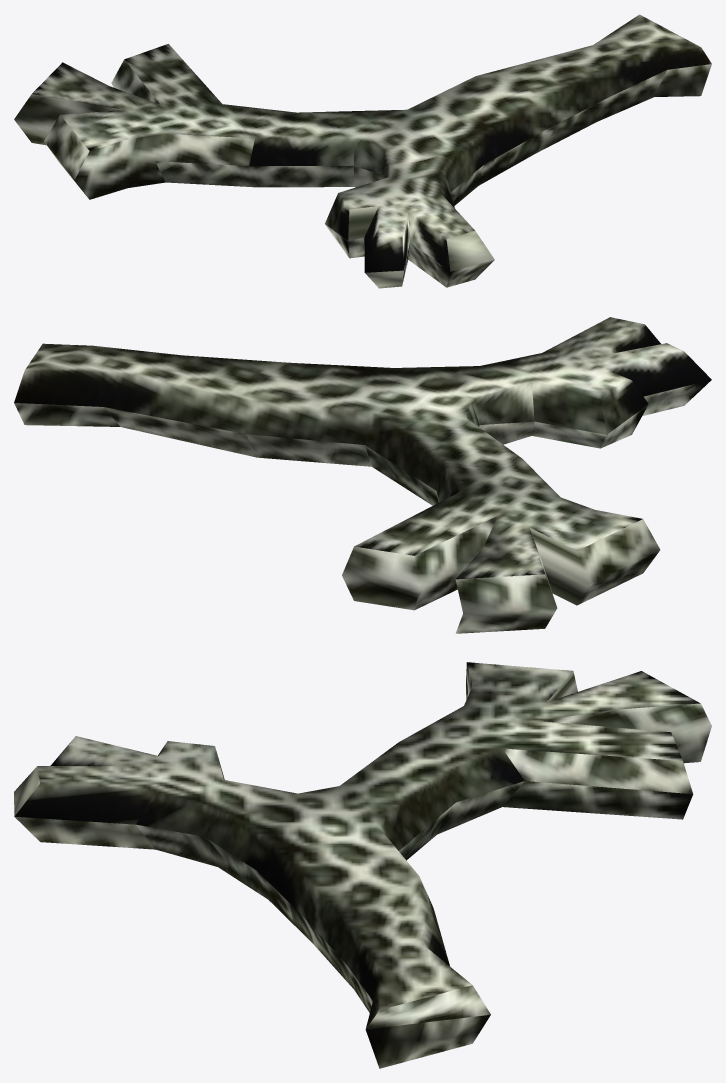
The model's file is lichen-anaptychia-crinalis-segment.fbx.
3 renders of one model, top to bottom at view 1: azimuth 30°, elevation 25°; view 2: azimuth 150°, elevation 25°; view 3: azimuth 270°, elevation 25°, orthographic. The views are drawn at different scales.
Visible parts, largest first — view 1: lychen_branch; view 2: lychen_branch; view 3: lychen_branch.
Part boxes in pixels (left/top/right/bottom): lychen_branch: left=14, top=14, right=711, bottom=288; lychen_branch: left=14, top=317, right=711, bottom=633; lychen_branch: left=14, top=662, right=711, bottom=1068.
Size of the model in its own units: 14.97 by 1.41 by 12.69.
